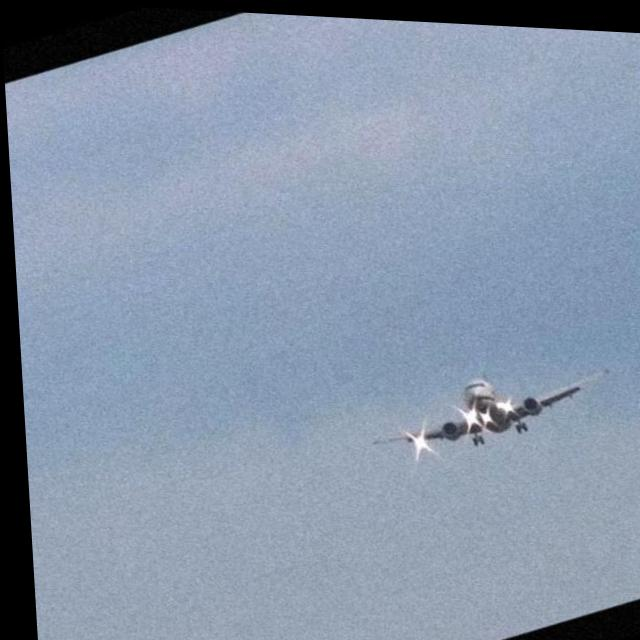airplane: (360, 353, 622, 467)
